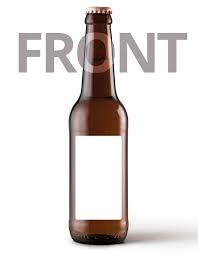Glass bottle: (58, 3, 142, 246)
